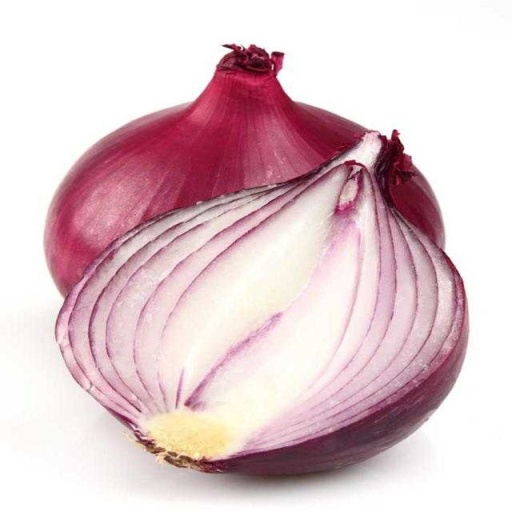Zwiebel: (56, 131, 469, 478)
